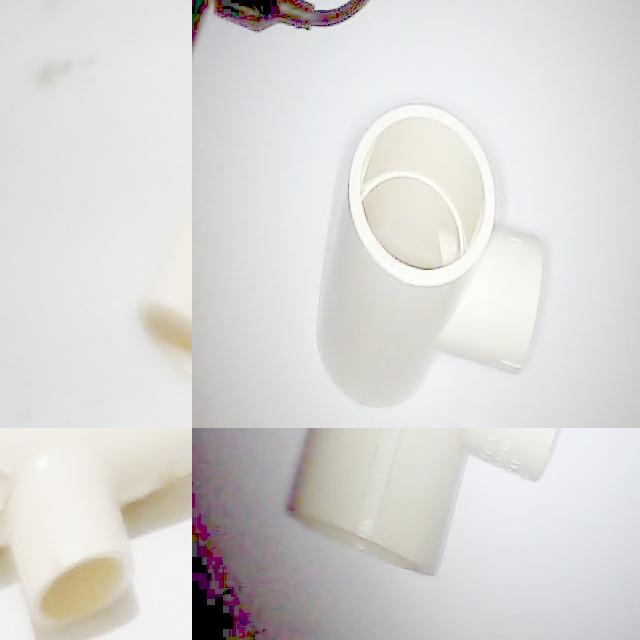Defective: (0, 444, 29, 578)
T Joint: (315, 103, 548, 413), (285, 428, 560, 579)
